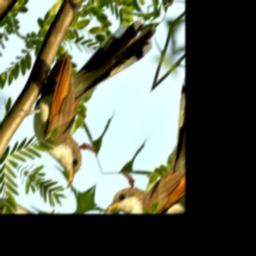Cuckoo: (6, 0, 162, 191)
